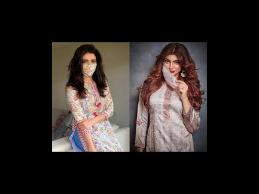mask_weared_incorrect: (164, 58, 179, 76)
with_mask: (83, 56, 96, 70)
